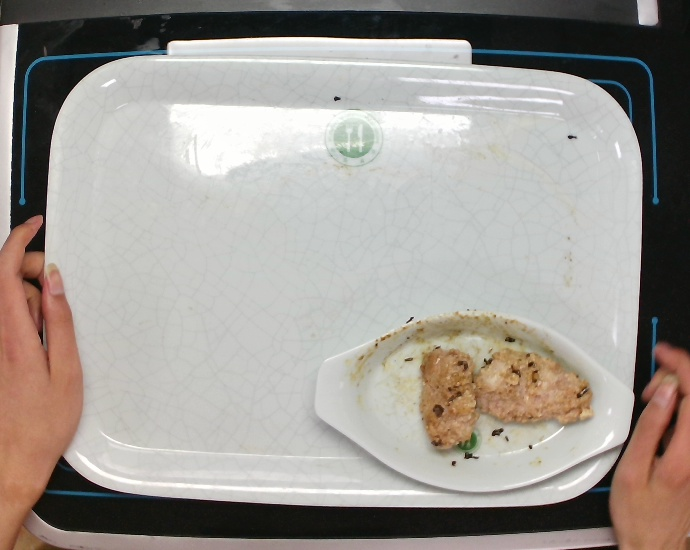JYsf-Yu_Pan: (311, 302, 648, 487)
